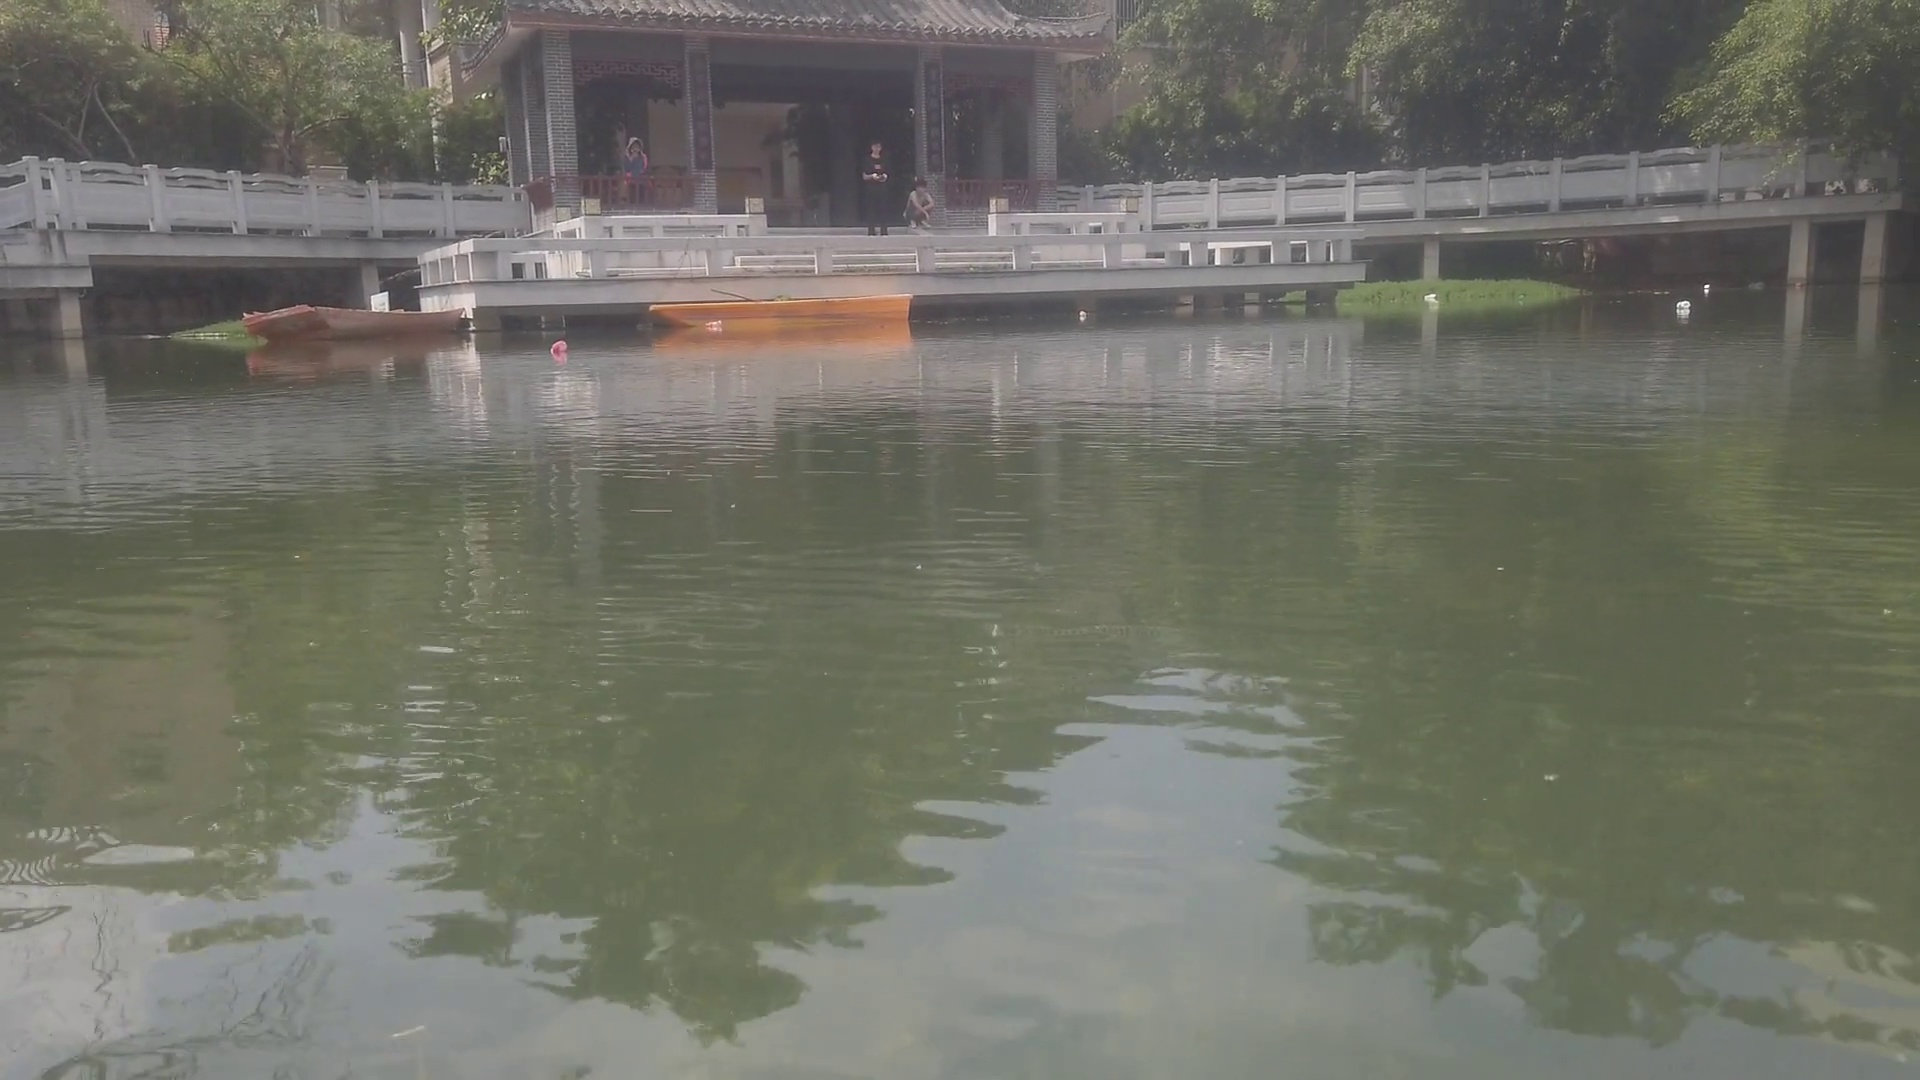bottle: (703, 316, 728, 328), (550, 339, 568, 353), (1673, 294, 1692, 309), (1793, 280, 1811, 290), (1076, 309, 1091, 320)
carton: (1702, 284, 1712, 293)
plastic: (1423, 290, 1437, 301)
